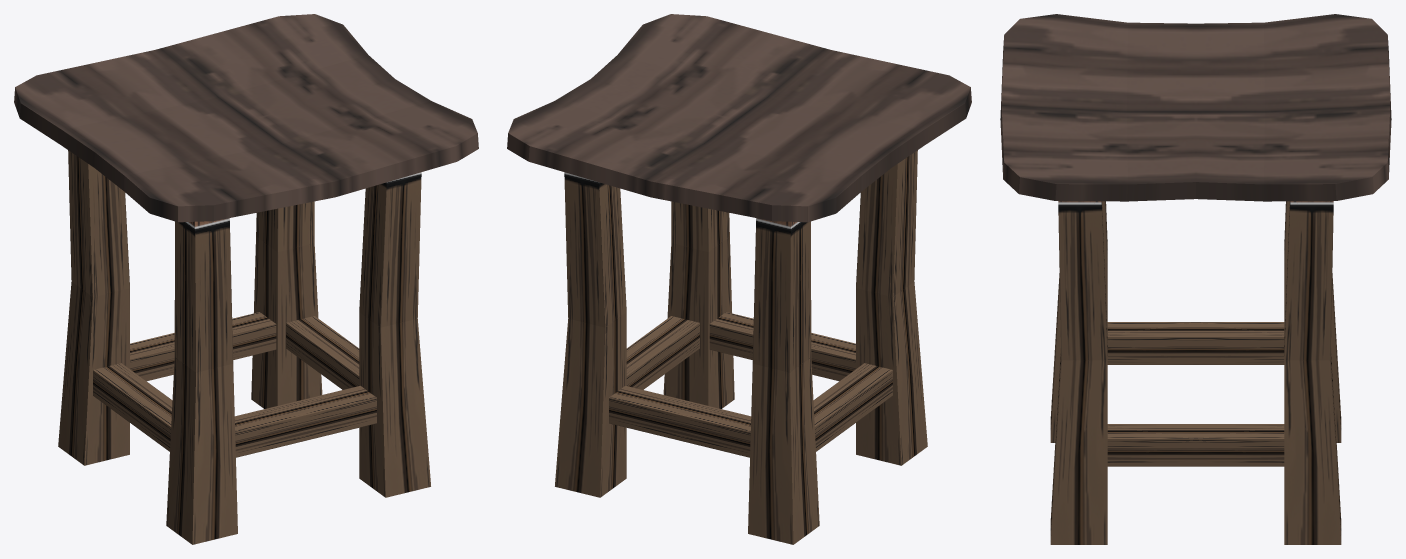
The model's file is furniture_bench_small_01.fbx.
3 renders of one model, left to right at view 1: azimuth 30°, elevation 25°; view 2: azimuth 150°, elevation 25°; view 3: azimuth 270°, elevation 25°, orthographic. The views are drawn at different scales.
Visible parts, largest first — view 1: furniture_bench_small_01; view 2: furniture_bench_small_01; view 3: furniture_bench_small_01.
Boxes of the visible parts, x1,y1,x2,y2 form: furniture_bench_small_01: [14, 14, 478, 544]; furniture_bench_small_01: [507, 14, 971, 544]; furniture_bench_small_01: [1000, 14, 1391, 544].
Size of the model in its own units: 0.4915 by 0.5169 by 0.4758.
1 material, 1 textured.
